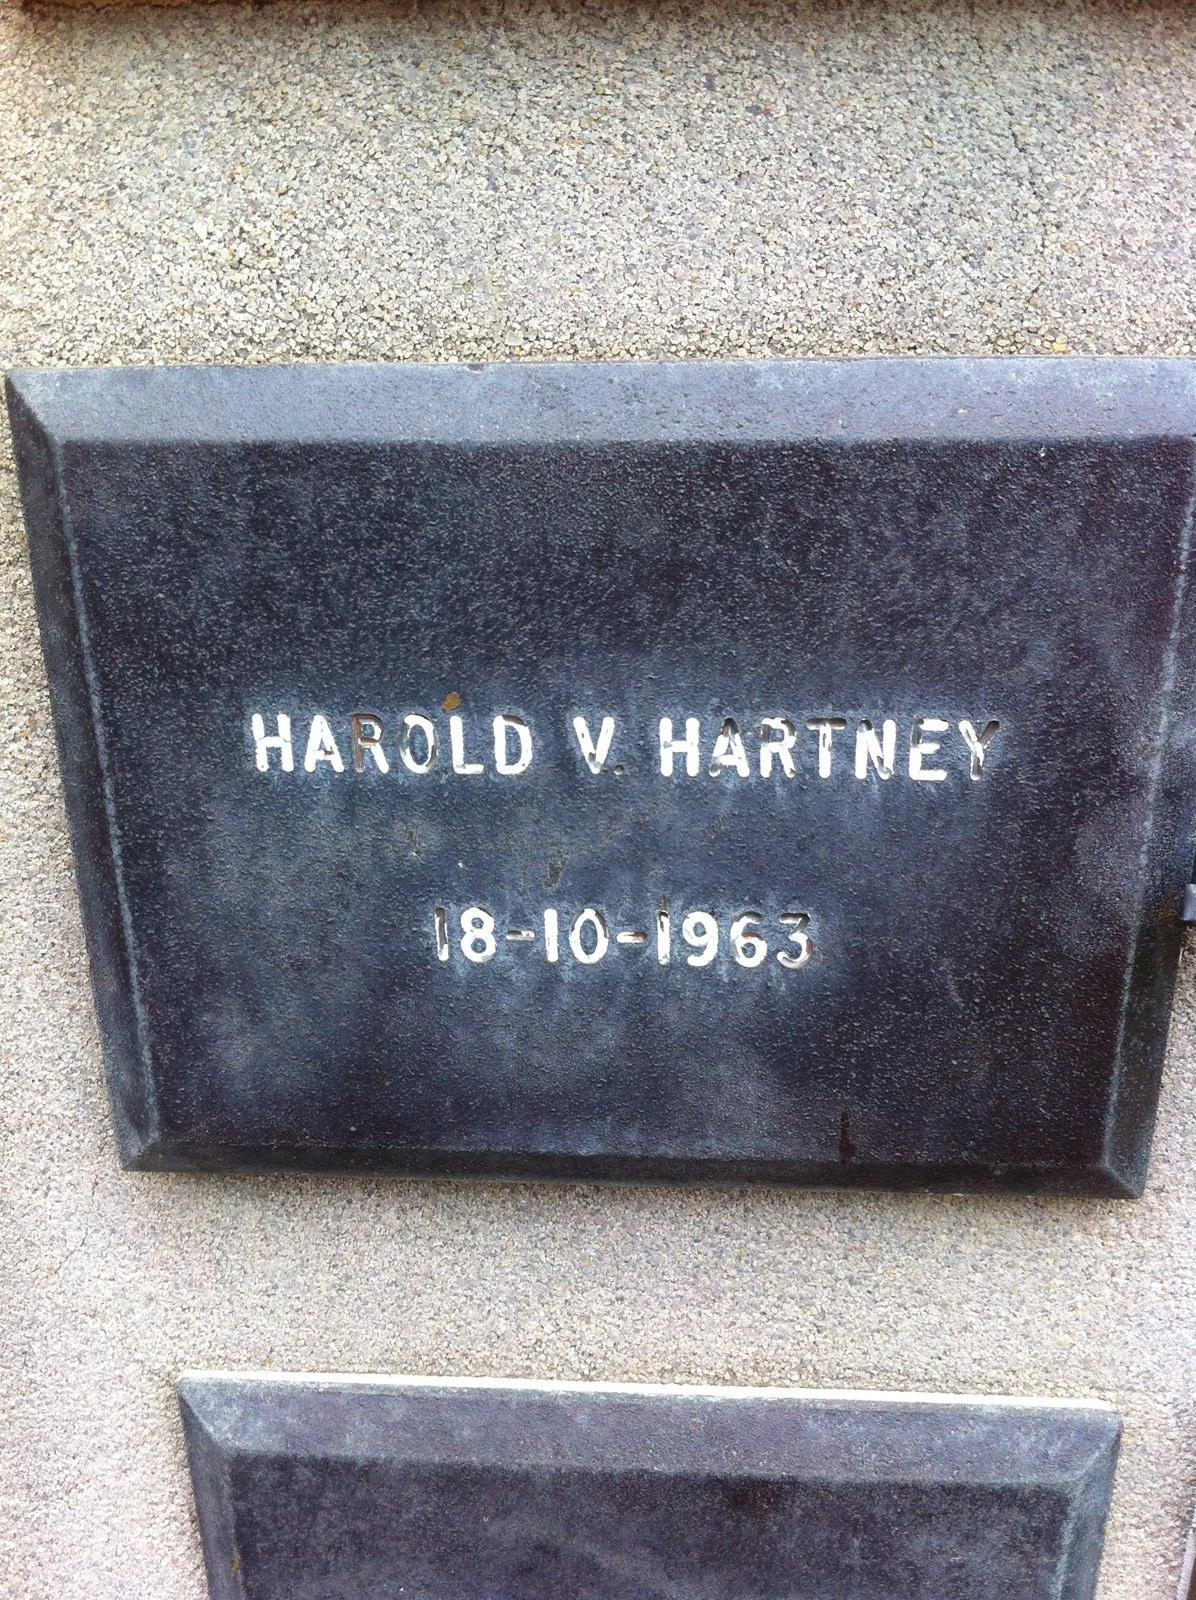plaque: (0, 345, 1196, 1204)
